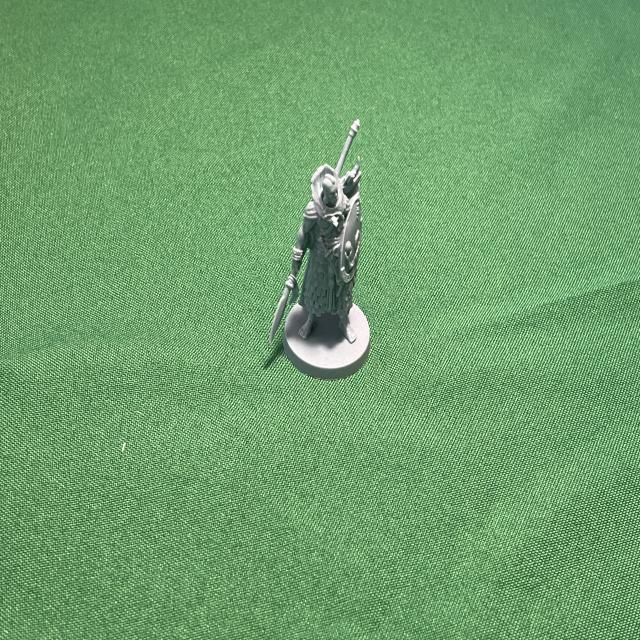isis_follower: (274, 123, 377, 382)
